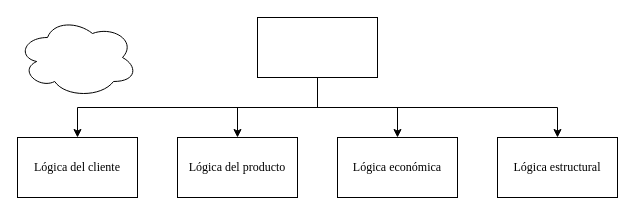
Image size: 635x215. Some labels were removed from this diagram. The shapes that lost their labels are listed below. From the top down, each one's centre as x and y in pixels, then its label:
the point at 77,57: Siempre primero el cliente
the point at 317,47: Lógica del negocio
